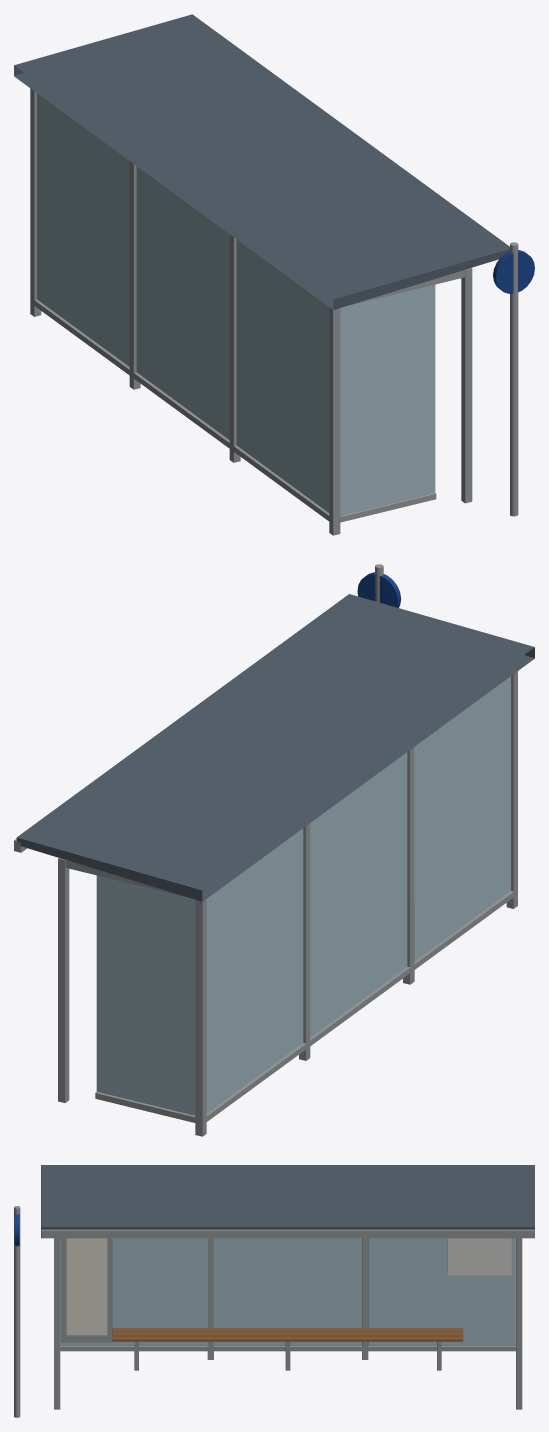
Rendered from prop_busStop.glb.
3 views of the same model, one above another, from view 1: azimuth 30°, elevation 25°; view 2: azimuth 150°, elevation 25°; view 3: azimuth 270°, elevation 25° (orthographic). The views are drawn at different scales.
Visible parts, largest first — view 1: prop_busStop_LOD0; view 2: prop_busStop_LOD0; view 3: prop_busStop_LOD0.
Part boxes in pixels (left/top/right/bottom): prop_busStop_LOD0: left=14, top=14, right=534, bottom=535; prop_busStop_LOD0: left=14, top=564, right=534, bottom=1136; prop_busStop_LOD0: left=14, top=1165, right=534, bottom=1417.
Size of what is drawn, in the model's own units: 2.07 by 2.9 by 6.54.
